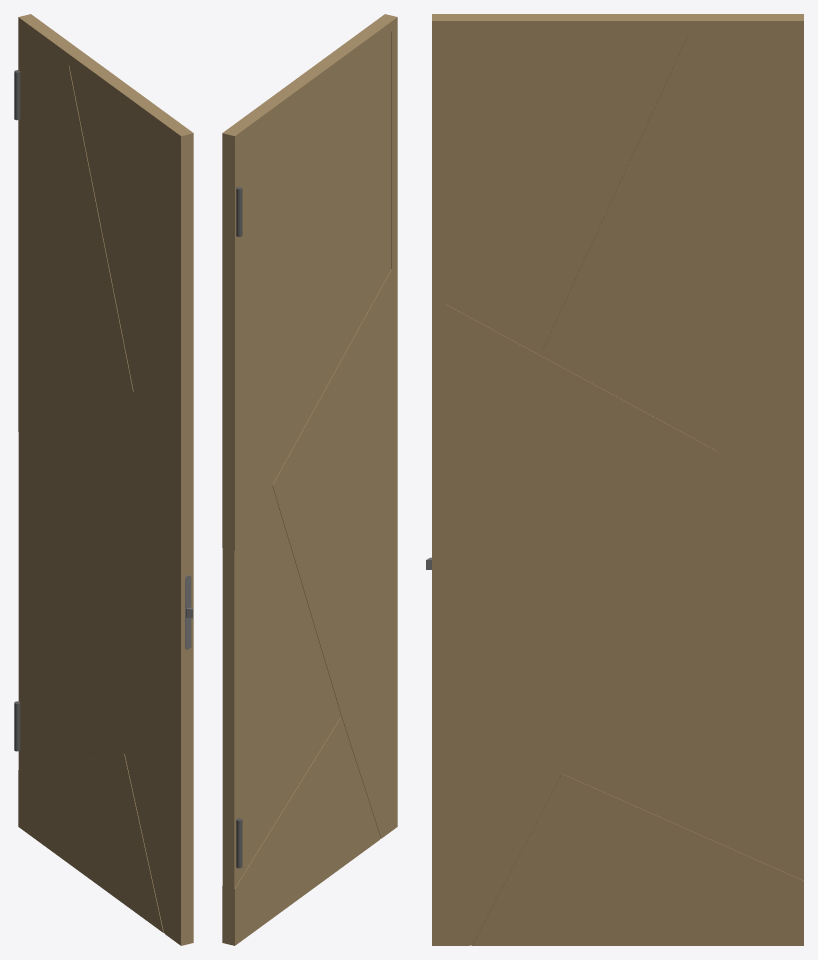
File: 29_VALENCIA_Door.glb
3 views of the same model, side by side, from view 1: azimuth 30°, elevation 25°; view 2: azimuth 150°, elevation 25°; view 3: azimuth 270°, elevation 25° (orthographic). The views are drawn at different scales.
Visible parts, largest first — view 1: 29_VALENCIA_Door; view 2: 29_VALENCIA_Door; view 3: 29_VALENCIA_Door.
Boxes of the visible parts, x1=… form: 29_VALENCIA_Door: x1=14, y1=14, x2=193, y2=945; 29_VALENCIA_Door: x1=222, y1=14, x2=397, y2=945; 29_VALENCIA_Door: x1=426, y1=14, x2=803, y2=945.
Size of the model in its own units: 0.0514 by 2.2 by 0.8128.
